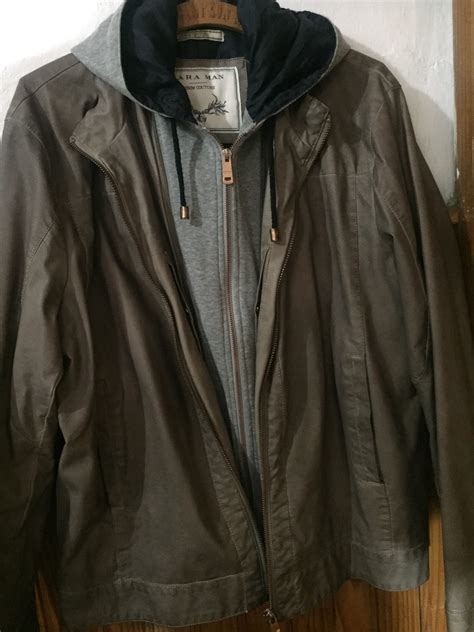cuero: (1, 1, 440, 618)
